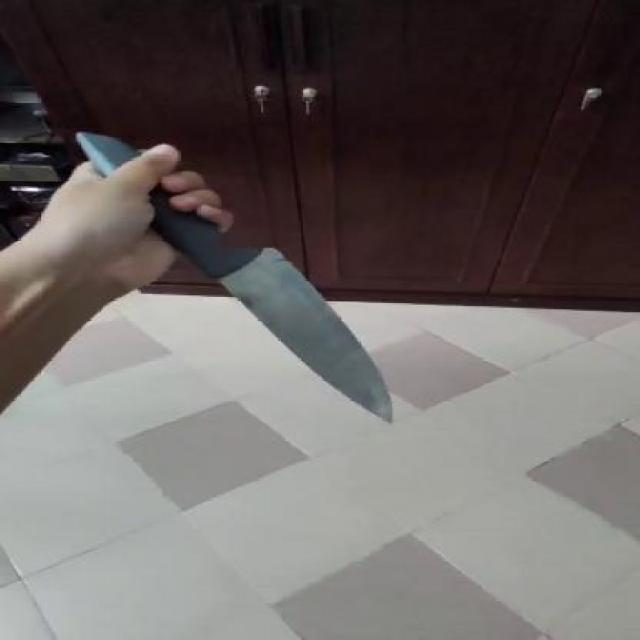-: (182, 257, 426, 431)
